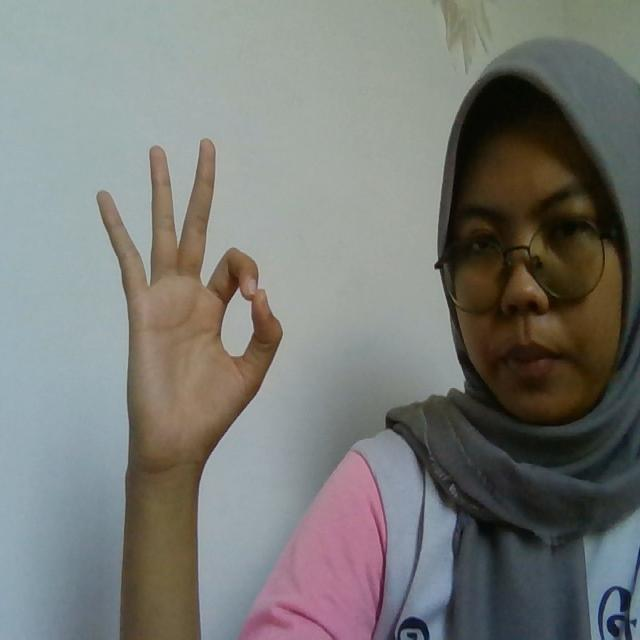F: (96, 136, 285, 463)
